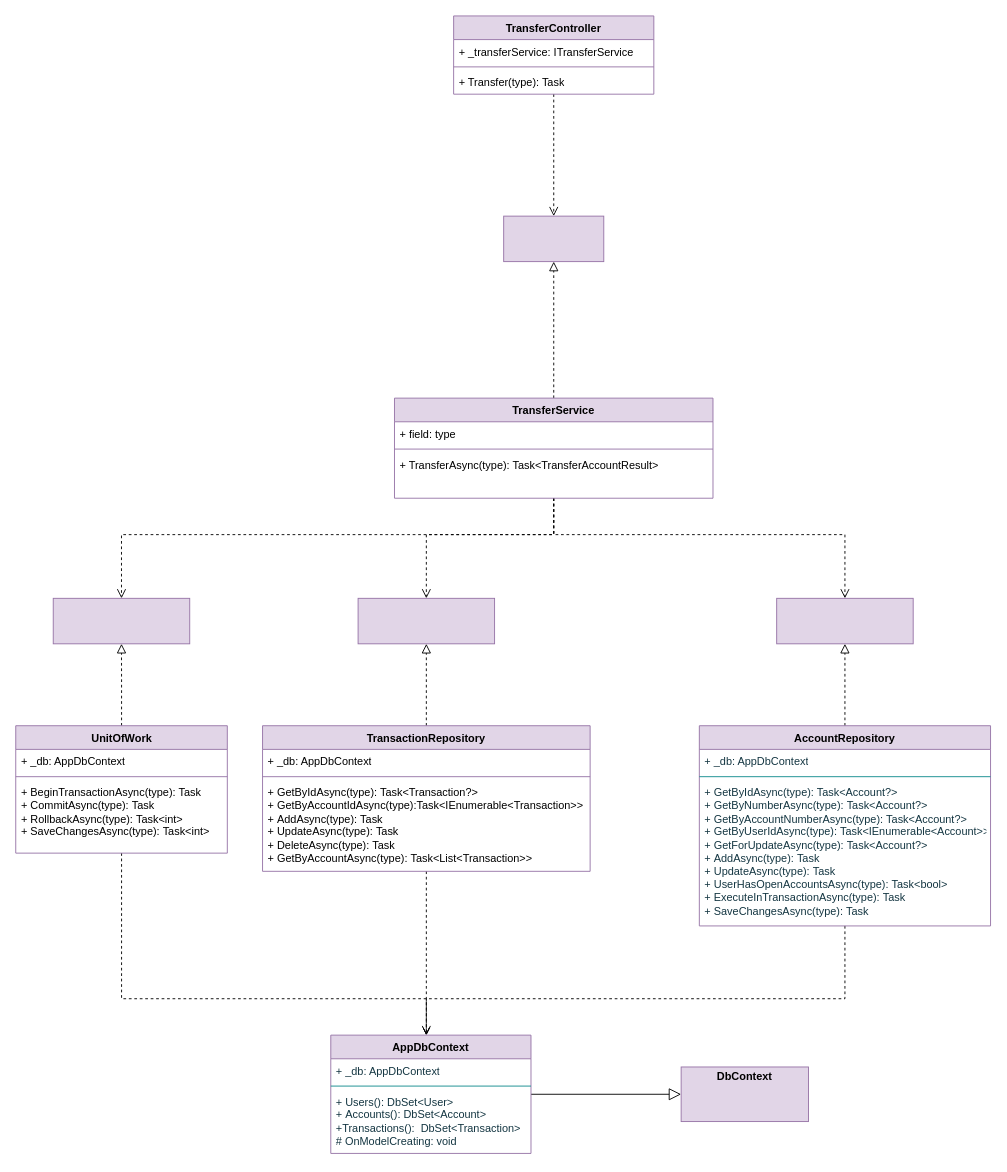
This 1007x1172 diagram has some shape labels left out. The centre of each missing label's shape, as x and y in pixels:
«interface» IAccountRepository: the point at 844,620
«interface» ITransactionRepository: the point at 426,620
«interface» ITransferService: the point at 553,238
«interface» IUnitOfWork: the point at 121,620
